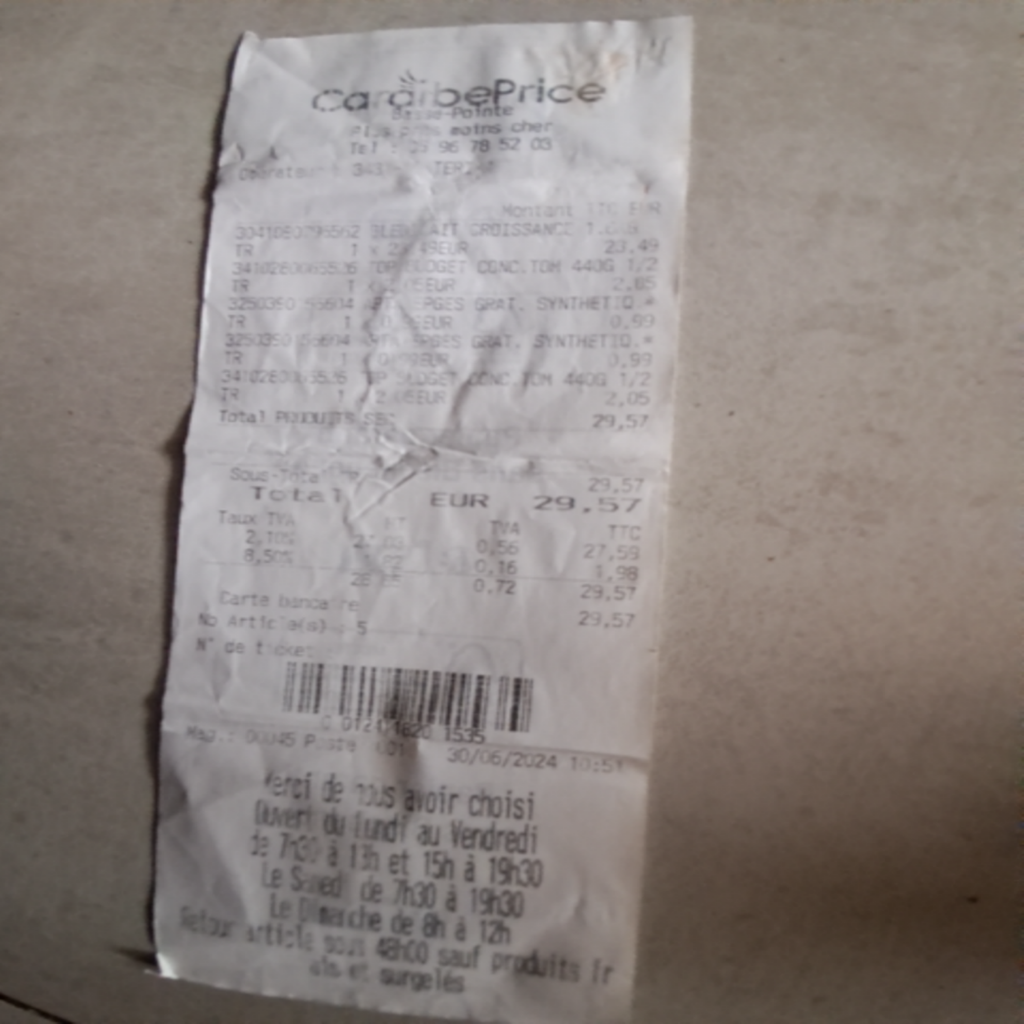recipt: (155, 11, 688, 1014)
